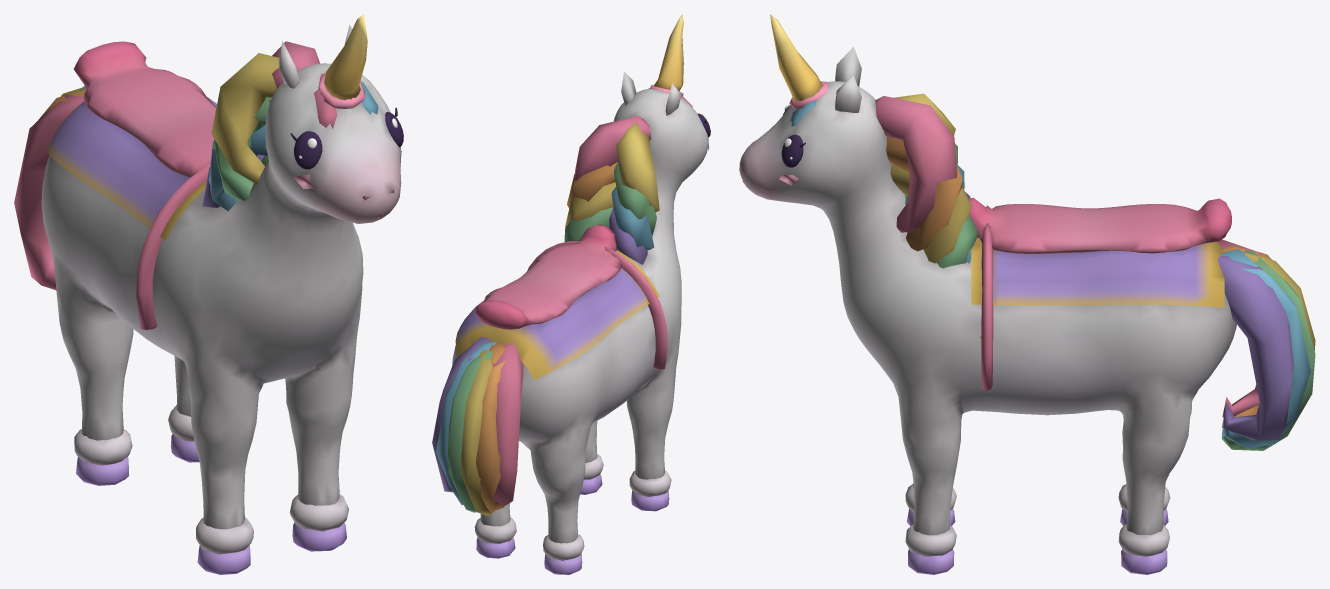
The model's file is veh_unicorn_lite.glb.
3 renders of one model, left to right at view 1: azimuth 30°, elevation 25°; view 2: azimuth 150°, elevation 25°; view 3: azimuth 270°, elevation 25°, orthographic. The views are drawn at different scales.
Parts seen in each view (by area): view 1: SM_veh_unicorn_lite_bob, SM_veh_unicorn_lite_bob_cloth, SM_veh_unicorn_lite_mane_0, SM_veh_unicorn_lite_tail_0, SM_veh_unicorn_lite_head_metal, SM_veh_unicorn_lite_head, SM_veh_unicorn_lite_knee_1, SM_veh_unicorn_lite_knee_2, SM_veh_unicorn_lite_knee_0, SM_veh_unicorn_lite_head_gloss_eyes, SM_veh_unicorn_lite_mane_1, SM_veh_unicorn_lite_mane_2 (+6 smaller); view 2: SM_veh_unicorn_lite_bob, SM_veh_unicorn_lite_bob_cloth, SM_veh_unicorn_lite_mane_0, SM_veh_unicorn_lite_tail_0, SM_veh_unicorn_lite_tail_1, SM_veh_unicorn_lite_tail_2, SM_veh_unicorn_lite_tail_3, SM_veh_unicorn_lite_mane_2, SM_veh_unicorn_lite_mane_1, SM_veh_unicorn_lite_mane_3, SM_veh_unicorn_lite_tail_4, SM_veh_unicorn_lite_head_metal (+8 smaller); view 3: SM_veh_unicorn_lite_bob, SM_veh_unicorn_lite_bob_cloth, SM_veh_unicorn_lite_tail_5, SM_veh_unicorn_lite_mane_0, SM_veh_unicorn_lite_tail_4, SM_veh_unicorn_lite_mane_1, SM_veh_unicorn_lite_head_metal, SM_veh_unicorn_lite_mane_2, SM_veh_unicorn_lite_head, SM_veh_unicorn_lite_tail_3, SM_veh_unicorn_lite_knee_1, SM_veh_unicorn_lite_knee_3 (+3 smaller).
Part boxes in pixels (x1=…): SM_veh_unicorn_lite_bob: x1=41, y1=63, x2=401, y2=529; SM_veh_unicorn_lite_bob_cloth: x1=47, y1=41, x2=216, y2=240; SM_veh_unicorn_lite_mane_0: x1=211, y1=41, x2=319, y2=184; SM_veh_unicorn_lite_tail_0: x1=14, y1=94, x2=84, y2=289; SM_veh_unicorn_lite_head_metal: x1=324, y1=14, x2=367, y2=100; SM_veh_unicorn_lite_head: x1=278, y1=25, x2=401, y2=218; SM_veh_unicorn_lite_knee_1: x1=289, y1=494, x2=348, y2=531; SM_veh_unicorn_lite_knee_2: x1=74, y1=429, x2=132, y2=465; SM_veh_unicorn_lite_knee_0: x1=196, y1=517, x2=253, y2=554; SM_veh_unicorn_lite_head_gloss_eyes: x1=290, y1=107, x2=403, y2=169; SM_veh_unicorn_lite_mane_1: x1=213, y1=97, x2=271, y2=200; SM_veh_unicorn_lite_mane_2: x1=209, y1=125, x2=267, y2=211; SM_veh_unicorn_lite_bob: x1=452, y1=88, x2=708, y2=543; SM_veh_unicorn_lite_bob_cloth: x1=455, y1=224, x2=659, y2=380; SM_veh_unicorn_lite_mane_0: x1=575, y1=116, x2=659, y2=211; SM_veh_unicorn_lite_tail_0: x1=491, y1=344, x2=523, y2=505; SM_veh_unicorn_lite_tail_1: x1=476, y1=343, x2=506, y2=512; SM_veh_unicorn_lite_tail_2: x1=461, y1=341, x2=494, y2=515; SM_veh_unicorn_lite_tail_3: x1=447, y1=344, x2=503, y2=512; SM_veh_unicorn_lite_mane_2: x1=565, y1=182, x2=654, y2=250; SM_veh_unicorn_lite_mane_1: x1=567, y1=162, x2=656, y2=235; SM_veh_unicorn_lite_mane_3: x1=564, y1=207, x2=647, y2=264; SM_veh_unicorn_lite_tail_4: x1=436, y1=342, x2=496, y2=505; SM_veh_unicorn_lite_head_metal: x1=654, y1=14, x2=683, y2=91; SM_veh_unicorn_lite_bob: x1=739, y1=81, x2=1236, y2=535; SM_veh_unicorn_lite_bob_cloth: x1=968, y1=197, x2=1231, y2=307; SM_veh_unicorn_lite_tail_5: x1=1217, y1=256, x2=1293, y2=440; SM_veh_unicorn_lite_mane_0: x1=875, y1=93, x2=957, y2=232; SM_veh_unicorn_lite_tail_4: x1=1221, y1=249, x2=1310, y2=448; SM_veh_unicorn_lite_mane_1: x1=886, y1=137, x2=962, y2=251; SM_veh_unicorn_lite_head_metal: x1=770, y1=14, x2=822, y2=100; SM_veh_unicorn_lite_mane_2: x1=890, y1=164, x2=971, y2=263; SM_veh_unicorn_lite_head: x1=741, y1=47, x2=861, y2=185; SM_veh_unicorn_lite_tail_3: x1=1221, y1=248, x2=1315, y2=450; SM_veh_unicorn_lite_knee_1: x1=905, y1=525, x2=956, y2=556; SM_veh_unicorn_lite_knee_3: x1=1118, y1=524, x2=1169, y2=556.
Bounding box in the file's own units: 0.7878 × 2.2 × 2.16.
